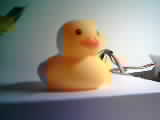duck: (50, 21, 111, 85)
